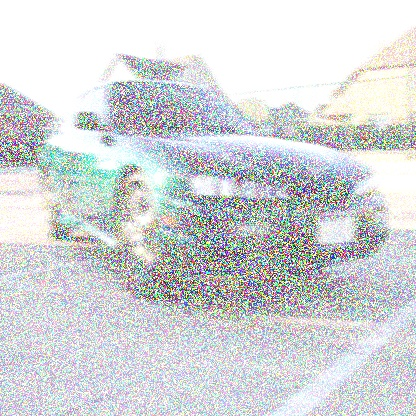Vehicle: (39, 80, 387, 296)
